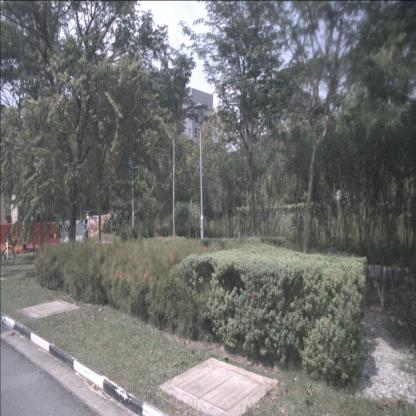movable_object-barrier: (32, 222, 62, 251), (0, 223, 23, 255), (25, 223, 49, 250), (58, 221, 83, 245)
vehicle-bicycle: (1, 227, 16, 267)
